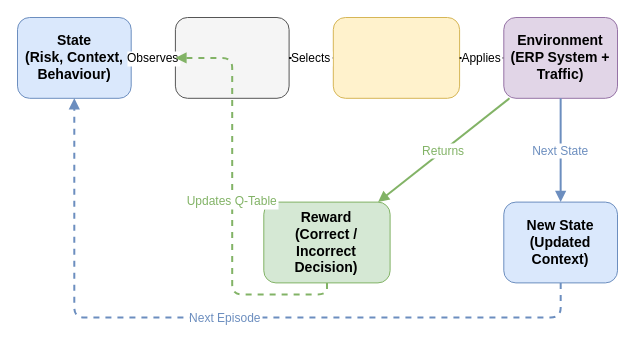
Some shapes in this 635 by 344 pixel diagram are drawn without their labels. Each missing label, with the centre of its shape:
"Action (Allow / Throttle / Challenge / Block)" goes at (x=396, y=57).
"RL Agent (Tabular Q-Learning)" goes at (x=231, y=57).
